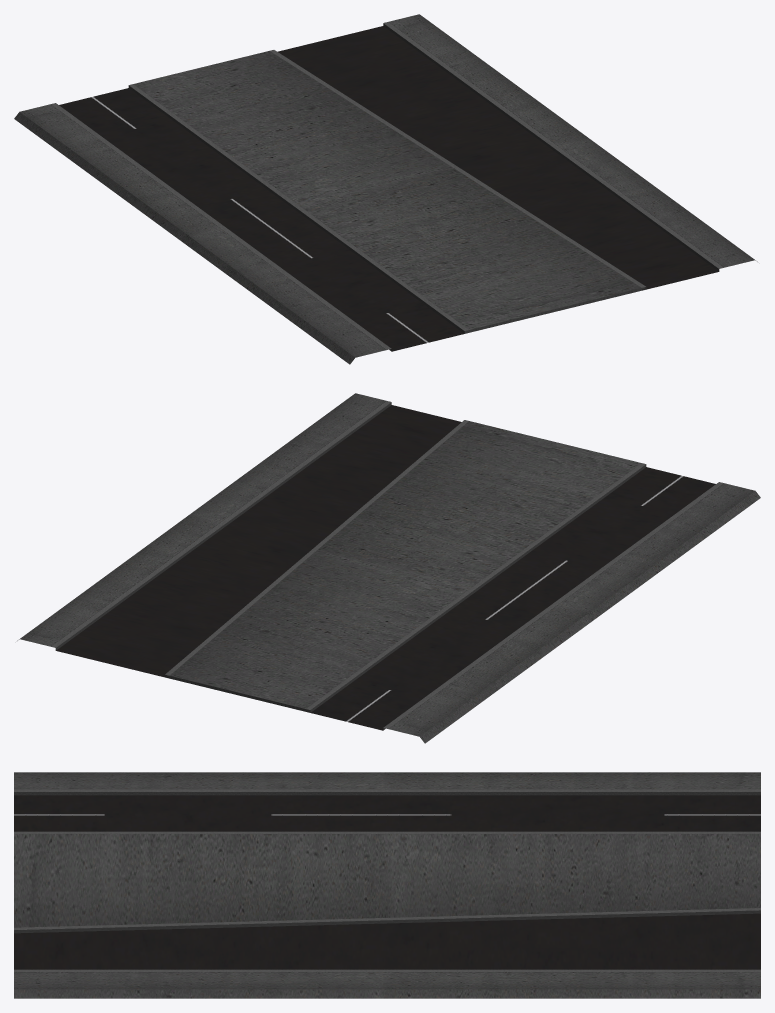
Rendered from RJs_Road Pass 2+4+2 Basic Segment_L_2.fbx.
The picture shows the model from 3 angles, top to bottom: view 1: azimuth 30°, elevation 25°; view 2: azimuth 150°, elevation 25°; view 3: azimuth 270°, elevation 25°; orthographic projection. The views are drawn at different scales.
Parts seen in each view (by area): view 1: plane; view 2: plane; view 3: plane.
Part boxes in pixels (left/top/right/bottom): plane: left=14, top=14, right=757, bottom=364; plane: left=17, top=393, right=760, bottom=743; plane: left=14, top=772, right=760, bottom=998.
Bounding box in the file's own units: 4520 × 60.1 × 6400.
